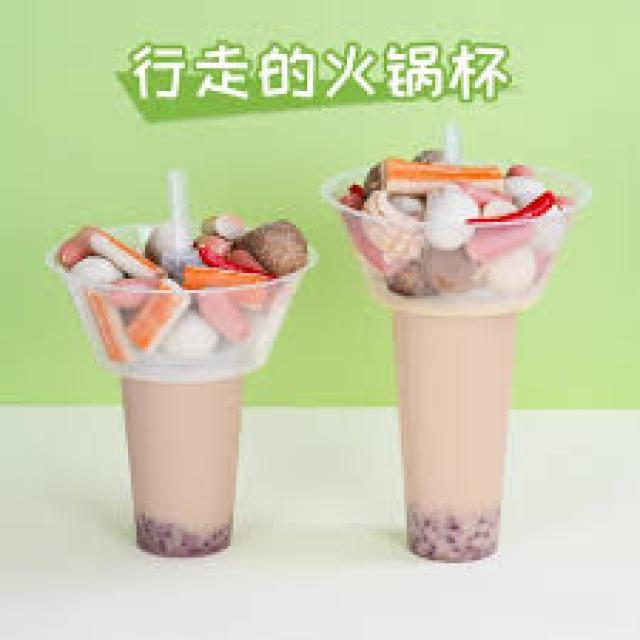cup: (399, 308, 515, 561), (124, 378, 241, 556)
